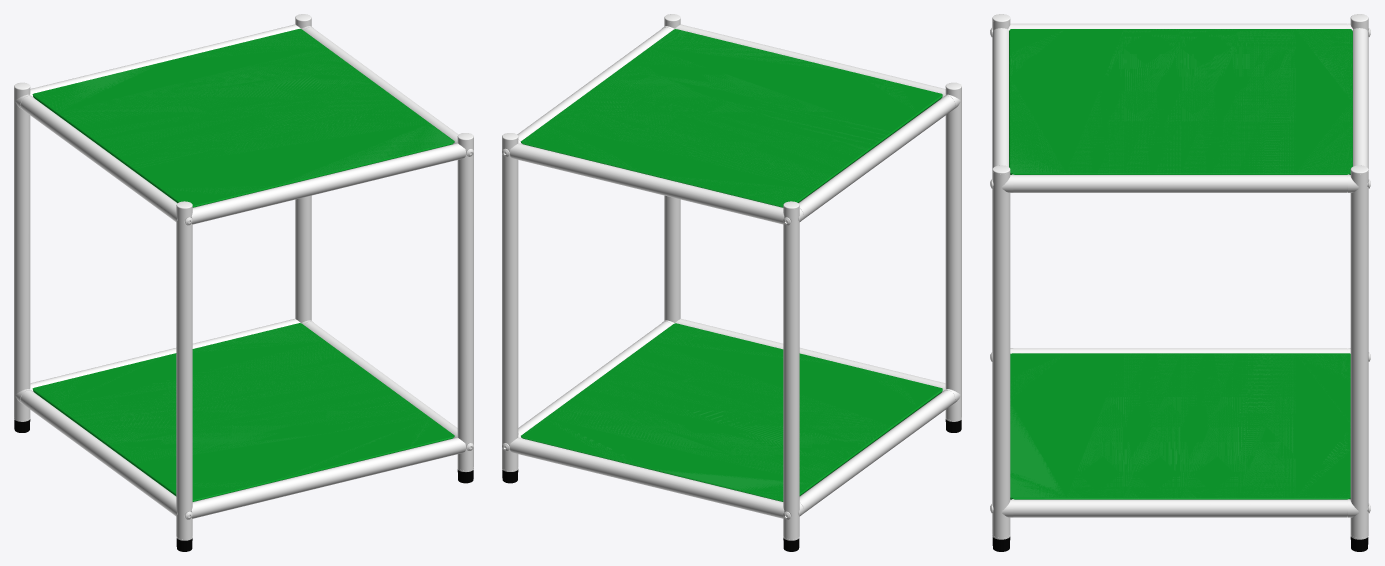
The model's file is 40x40x40-2-1-green.glb.
The picture shows the model from 3 angles, left to right: view 1: azimuth 30°, elevation 25°; view 2: azimuth 150°, elevation 25°; view 3: azimuth 270°, elevation 25°; orthographic projection. The views are drawn at different scales.
Visible parts, largest first — view 1: 直角鐵板-40x40-5 - 零件, 直角鐵板-40x40-3 - 零件, 鐵管-1層-40-正常腳-32mm-5 - 零件, 鐵管-1層-40-正常腳-32mm-4 - 零件, 鏡射鐵管-1層-40-正常腳-32mm-2 - 零件, 消水孔鐵管-40深-2 - 零件, 消水孔鐵管-40深-1 - 零件, 反-鐵管-40-354..4-15 - 零件, 反-鐵管-40-354..4-18 - 零件, 鏡射鐵管-1層-40-正常腳-32mm-1 - 零件, 鏡射消水孔鐵管-40深-2 - 零件, 反-鐵管-40-354..4-17 - 零件 (+2 smaller); view 2: 直角鐵板-40x40-5 - 零件, 直角鐵板-40x40-3 - 零件, 鏡射鐵管-1層-40-正常腳-32mm-2 - 零件, 鏡射鐵管-1層-40-正常腳-32mm-1 - 零件, 鐵管-1層-40-正常腳-32mm-5 - 零件, 鏡射消水孔鐵管-40深-2 - 零件, 鏡射消水孔鐵管-40深-1 - 零件, 反-鐵管-40-354..4-15 - 零件, 反-鐵管-40-354..4-18 - 零件, 鐵管-1層-40-正常腳-32mm-4 - 零件, 消水孔鐵管-40深-2 - 零件, 消水孔鐵管-40深-1 - 零件 (+2 smaller); view 3: 直角鐵板-40x40-5 - 零件, 直角鐵板-40x40-3 - 零件, 鐵管-1層-40-正常腳-32mm-4 - 零件, 鏡射鐵管-1層-40-正常腳-32mm-1 - 零件, 反-鐵管-40-354..4-1 - 零件, 反-鐵管-40-354..4-17 - 零件, 消水孔鐵管-40深-2 - 零件, 鏡射消水孔鐵管-40深-2 - 零件, 反-鐵管-40-354..4-15 - 零件, 反-鐵管-40-354..4-18 - 零件.
Part boxes in pixels (x1,y1,x2,y2): 直角鐵板-40x40-5 - 零件: (32,29,454,207); 直角鐵板-40x40-3 - 零件: (32,323,454,501); 鐵管-1層-40-正常腳-32mm-5 - 零件: (176,206,192,539); 鐵管-1層-40-正常腳-32mm-4 - 零件: (457,138,473,470); 鏡射鐵管-1層-40-正常腳-32mm-2 - 零件: (14,87,30,420); 消水孔鐵管-40深-2 - 零件: (191,143,465,224); 消水孔鐵管-40深-1 - 零件: (191,437,465,518); 反-鐵管-40-354..4-15 - 零件: (21,390,176,514); 反-鐵管-40-354..4-18 - 零件: (20,96,177,219); 鏡射鐵管-1層-40-正常腳-32mm-1 - 零件: (295,19,311,322); 鏡射消水孔鐵管-40深-2 - 零件: (30,24,300,97); 反-鐵管-40-354..4-17 - 零件: (304,27,458,144); 直角鐵板-40x40-5 - 零件: (521,29,942,207); 直角鐵板-40x40-3 - 零件: (521,323,942,501); 鏡射鐵管-1層-40-正常腳-32mm-2 - 零件: (783,207,799,539); 鏡射鐵管-1層-40-正常腳-32mm-1 - 零件: (502,138,518,470); 鐵管-1層-40-正常腳-32mm-5 - 零件: (945,88,961,420); 鏡射消水孔鐵管-40深-2 - 零件: (510,143,784,224); 鏡射消水孔鐵管-40深-1 - 零件: (510,437,784,518); 反-鐵管-40-354..4-15 - 零件: (799,390,955,514); 反-鐵管-40-354..4-18 - 零件: (798,96,955,219); 鐵管-1層-40-正常腳-32mm-4 - 零件: (664,19,680,322); 消水孔鐵管-40深-2 - 零件: (675,24,945,98); 消水孔鐵管-40深-1 - 零件: (675,318,945,391); 直角鐵板-40x40-5 - 零件: (1009,29,1352,174); 直角鐵板-40x40-3 - 零件: (1010,353,1350,499); 鐵管-1層-40-正常腳-32mm-4 - 零件: (992,171,1010,537); 鏡射鐵管-1層-40-正常腳-32mm-1 - 零件: (1350,171,1368,537); 反-鐵管-40-354..4-1 - 零件: (1013,499,1347,517); 反-鐵管-40-354..4-17 - 零件: (1013,175,1347,192); 消水孔鐵管-40深-2 - 零件: (992,28,1008,168); 鏡射消水孔鐵管-40深-2 - 零件: (1352,28,1368,168); 反-鐵管-40-354..4-15 - 零件: (1013,348,1347,353); 反-鐵管-40-354..4-18 - 零件: (1013,23,1347,28).
Size of the model in its own units: 0.3992 by 0.4454 by 0.4036.
